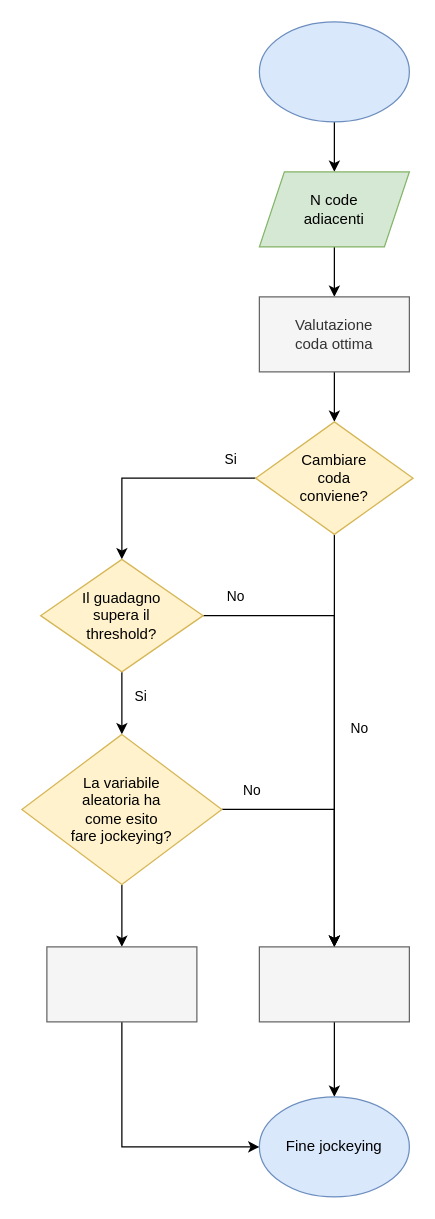
This 435x1219 diagram has some shape labels left out. Here are the shapes that lost their labels. From the top down, the box of each, then its label:
(258, 21, 409, 122): Cliente in coda
(46, 946, 197, 1022): Cambia la coda
(258, 946, 409, 1022): Rimani nella coda corrente
